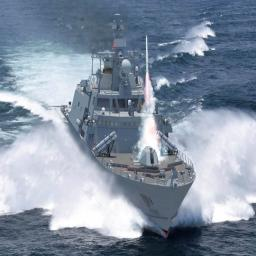Fragata: (50, 7, 200, 244)
